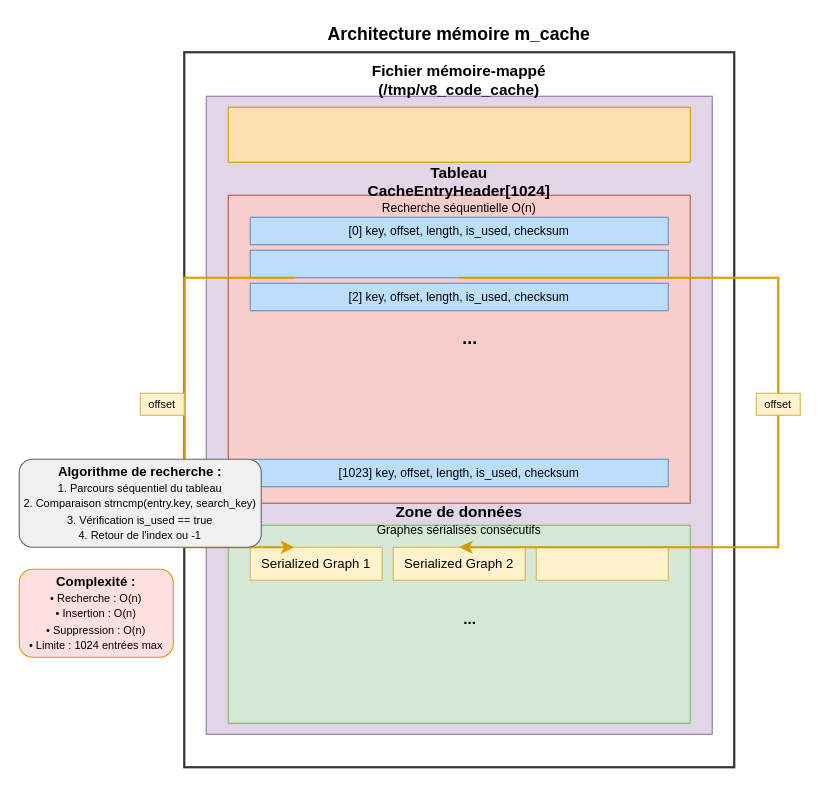
Some shapes in this 820 by 787 pixel diagram are drawn without their labels. The shapes that lost their labels are listed below. From the top down, each one's centre as x and y in pixels, then its label:
At [458,134]: "CacheHeader magic_number, version entry_count, next_offset".
At [458,263]: "[1] key, offset, length, is_used, checksum".
At [601,563]: "Serialized Graph 3".
